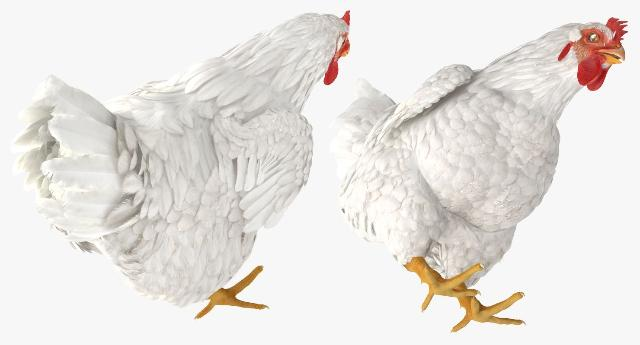Chicken: (14, 9, 351, 321), (333, 16, 628, 333)
